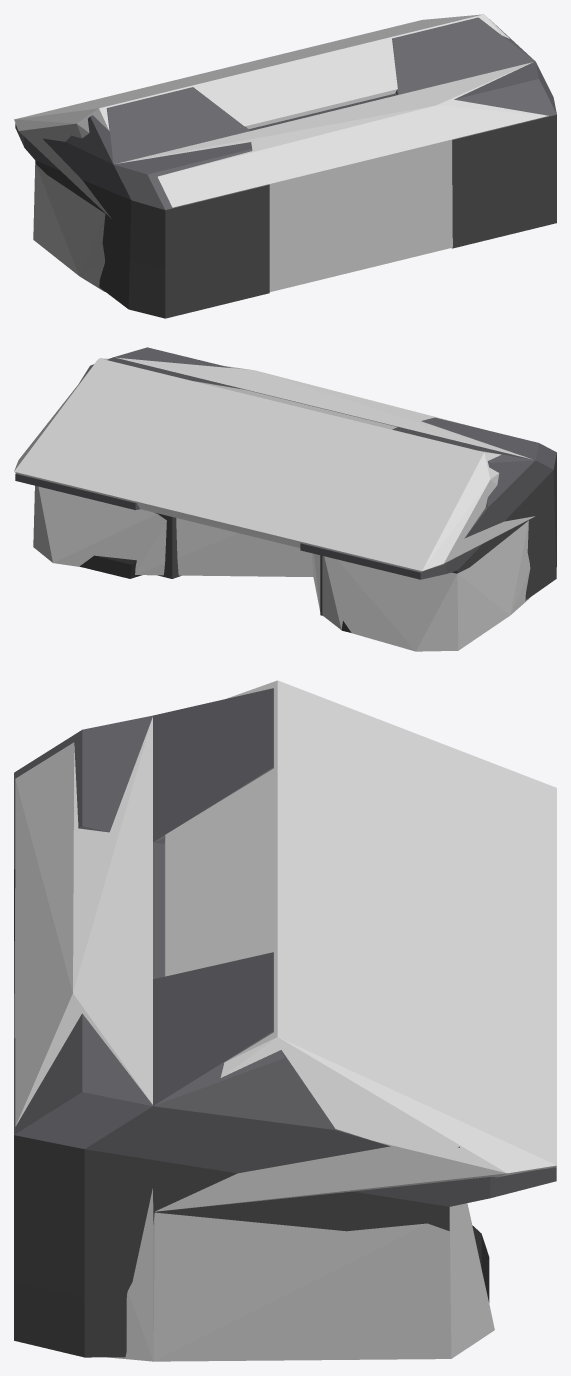
The model's file is SM_Prop_ControlPanel_04.fbx.
3 renders of one model, top to bottom at view 1: azimuth 30°, elevation 25°; view 2: azimuth 150°, elevation 25°; view 3: azimuth 270°, elevation 25°, orthographic. The views are drawn at different scales.
Visible parts, largest first — view 1: SM_Prop_ControlPanel_04_ConvexHulls, SM_Prop_ControlPanel_04_LOD0; view 2: SM_Prop_ControlPanel_04_ConvexHulls, SM_Prop_ControlPanel_04_LOD0; view 3: SM_Prop_ControlPanel_04_ConvexHulls, SM_Prop_ControlPanel_04_LOD0.
Part boxes in pixels (<box>): SM_Prop_ControlPanel_04_ConvexHulls: <box>14,14,548,291</box>; SM_Prop_ControlPanel_04_LOD0: <box>15,17,556,318</box>; SM_Prop_ControlPanel_04_ConvexHulls: <box>14,357,534,651</box>; SM_Prop_ControlPanel_04_LOD0: <box>15,347,556,632</box>; SM_Prop_ControlPanel_04_ConvexHulls: <box>14,680,556,1361</box>; SM_Prop_ControlPanel_04_LOD0: <box>14,688,556,1357</box>.
Size of the model in its own units: 212 by 369 by 131.
Materials: 1 (1 with a texture image).
